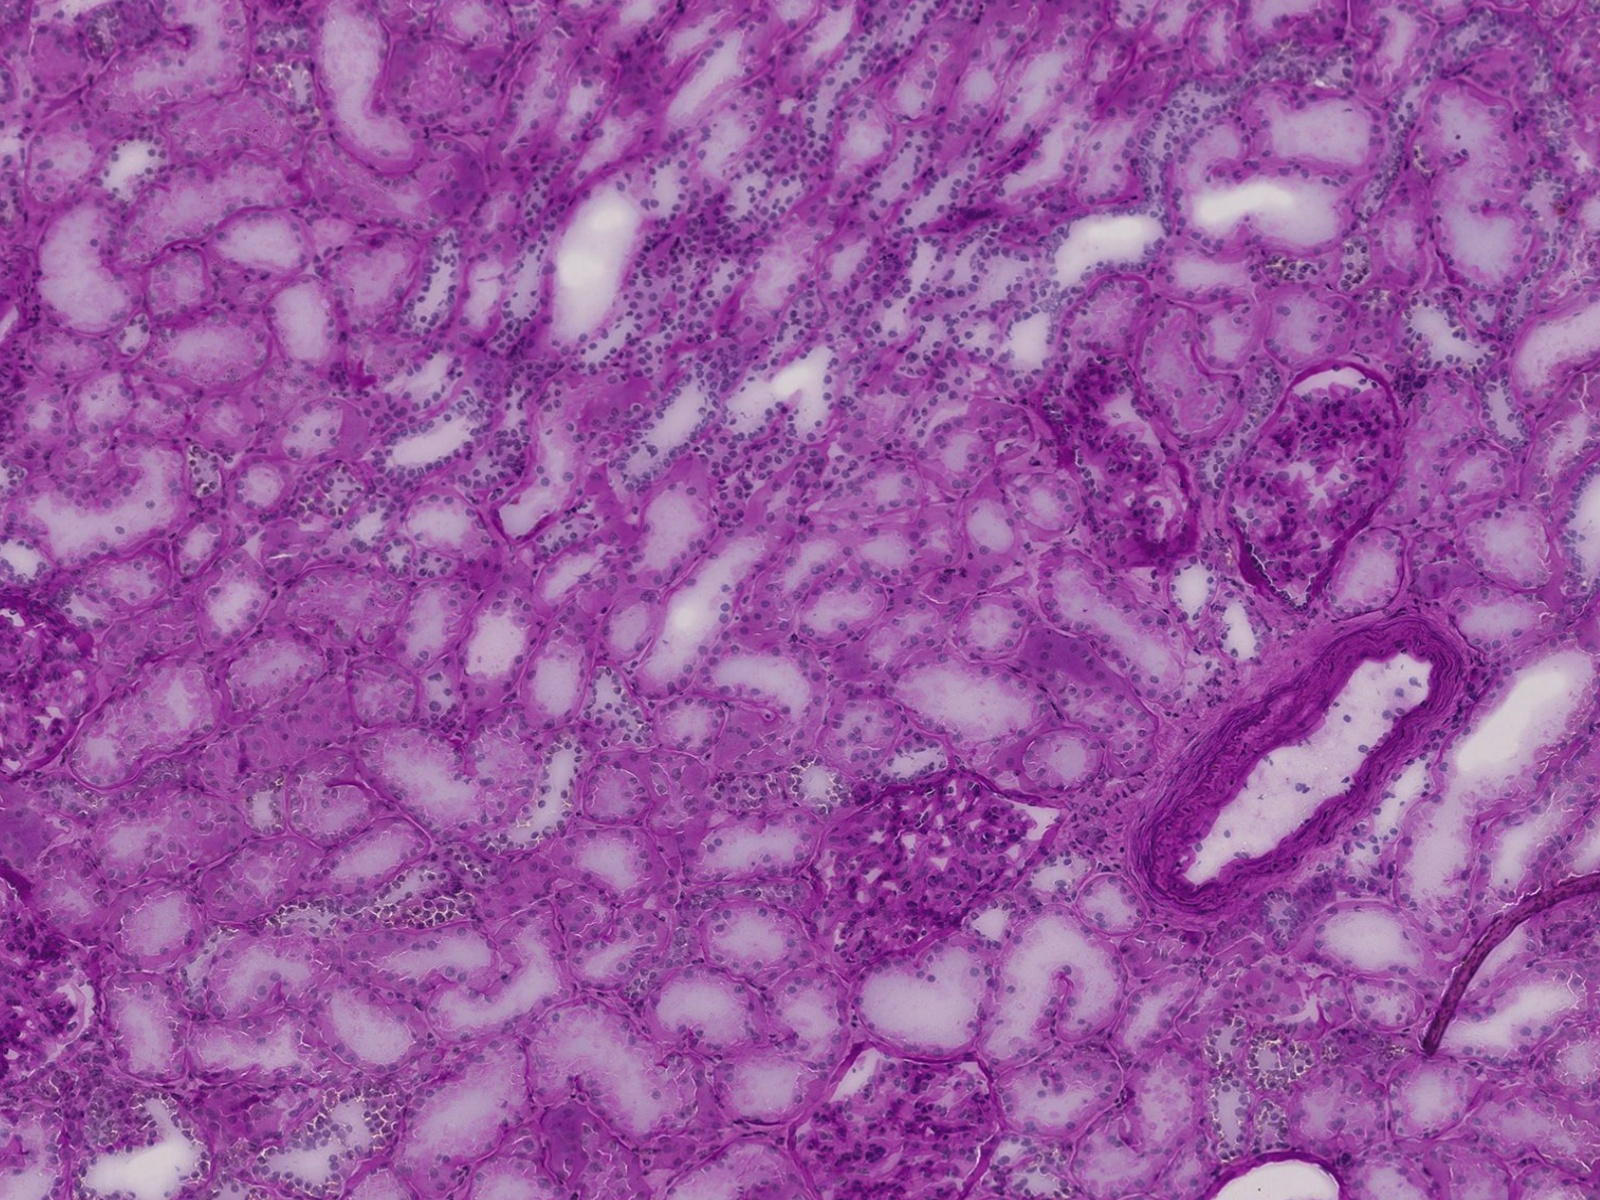Glomeruli: (1214, 355, 1415, 623), (818, 779, 1057, 967), (794, 1037, 1012, 1200), (8, 858, 105, 1085), (4, 582, 101, 792)
